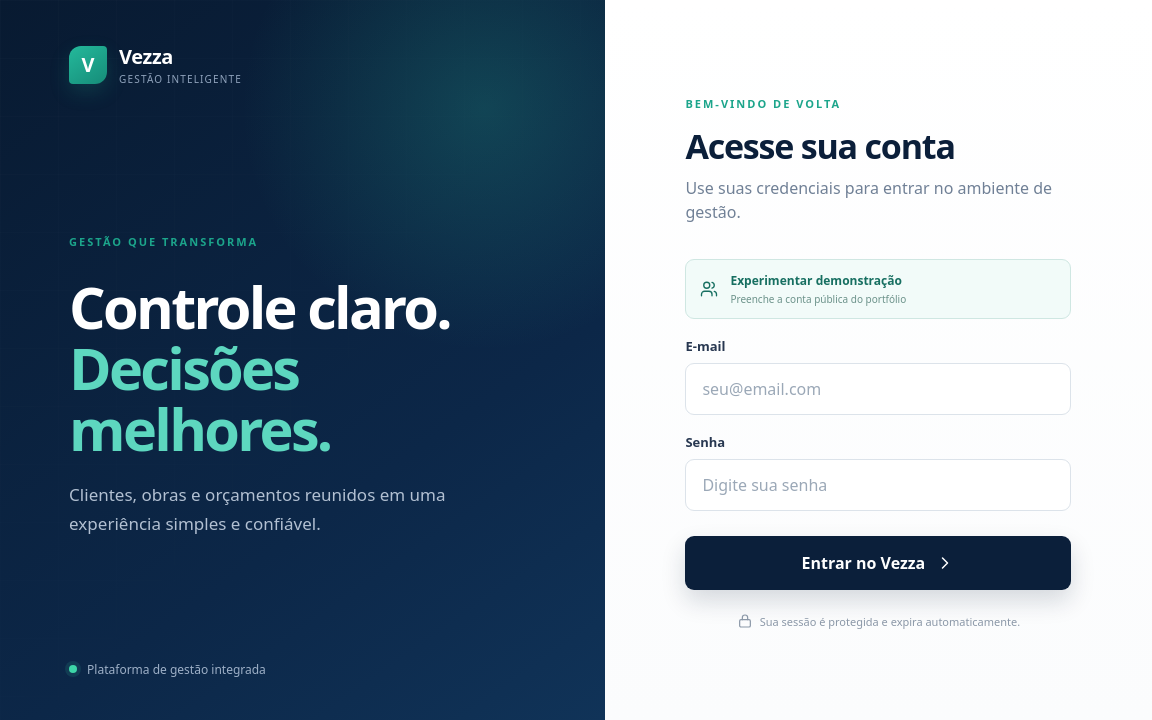
autenticação › preenche as credenciais públicas ao solicitar a demonstração
Click the button "Experimentar demonstração" at coordinates (878, 289), box [685, 259, 1071, 319]
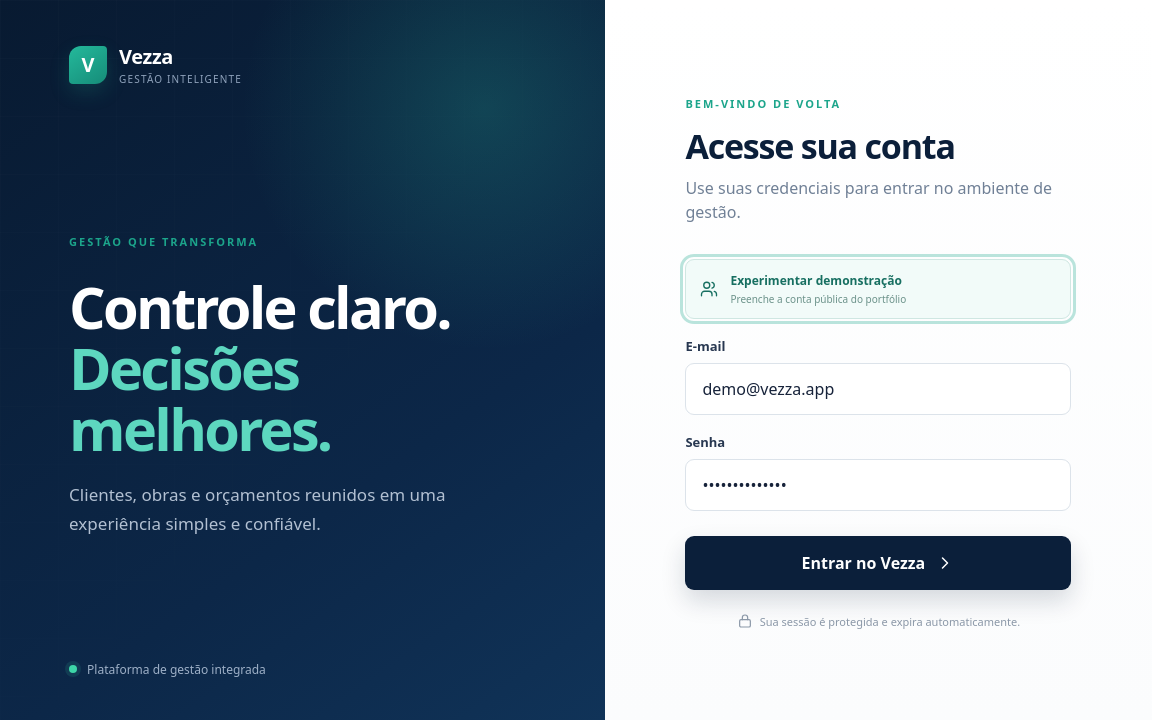
expect the field labelled "E-mail" holds "demo@vezza.app": met, box [685, 363, 1071, 415]
expect the password field labelled "Senha" holds "VezzaDemo2026!": met, box [685, 459, 1071, 511]
